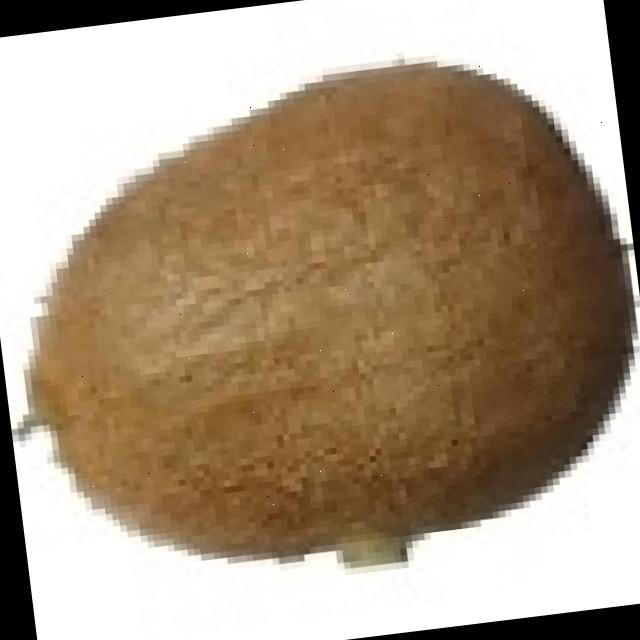kiwi: (21, 56, 619, 549)
